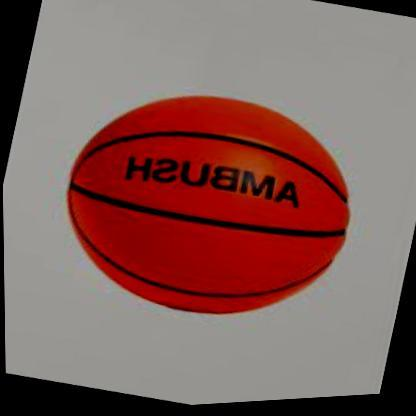basketball: (45, 65, 372, 350)
